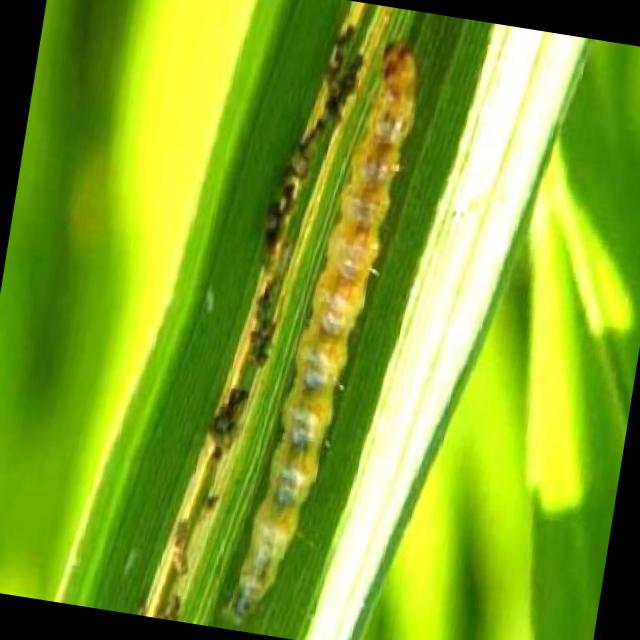leaf-folder: (236, 19, 426, 618)
